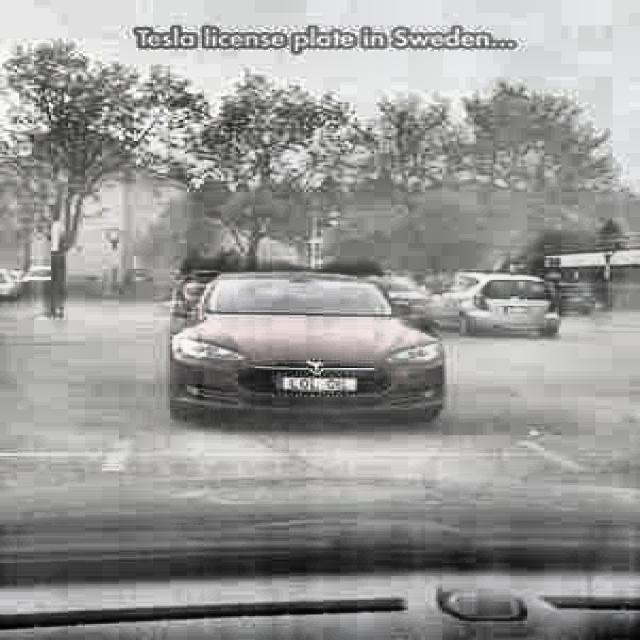license_plate: (282, 375, 354, 399), (502, 306, 540, 318)
